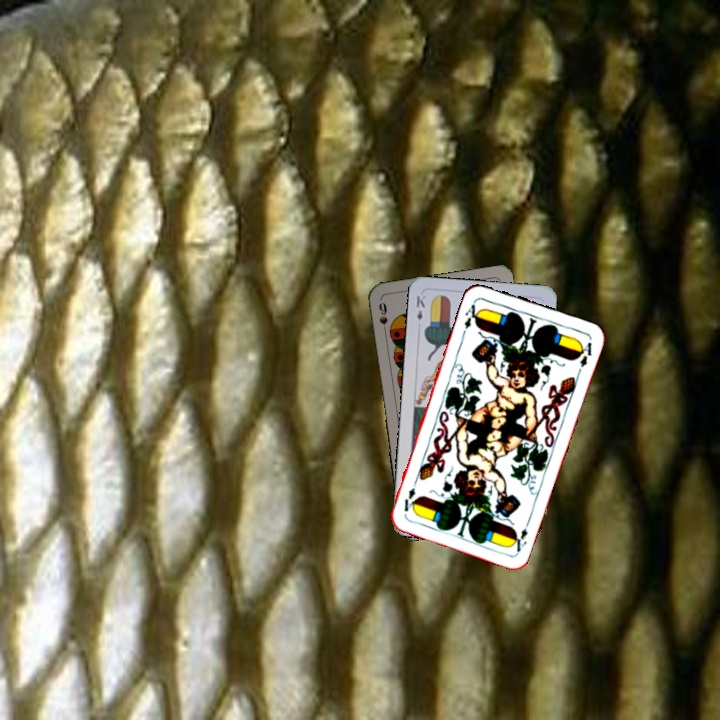EA: (459, 297, 483, 337), (508, 516, 532, 555)
EK: (412, 291, 428, 323)
S9: (375, 298, 390, 338)
